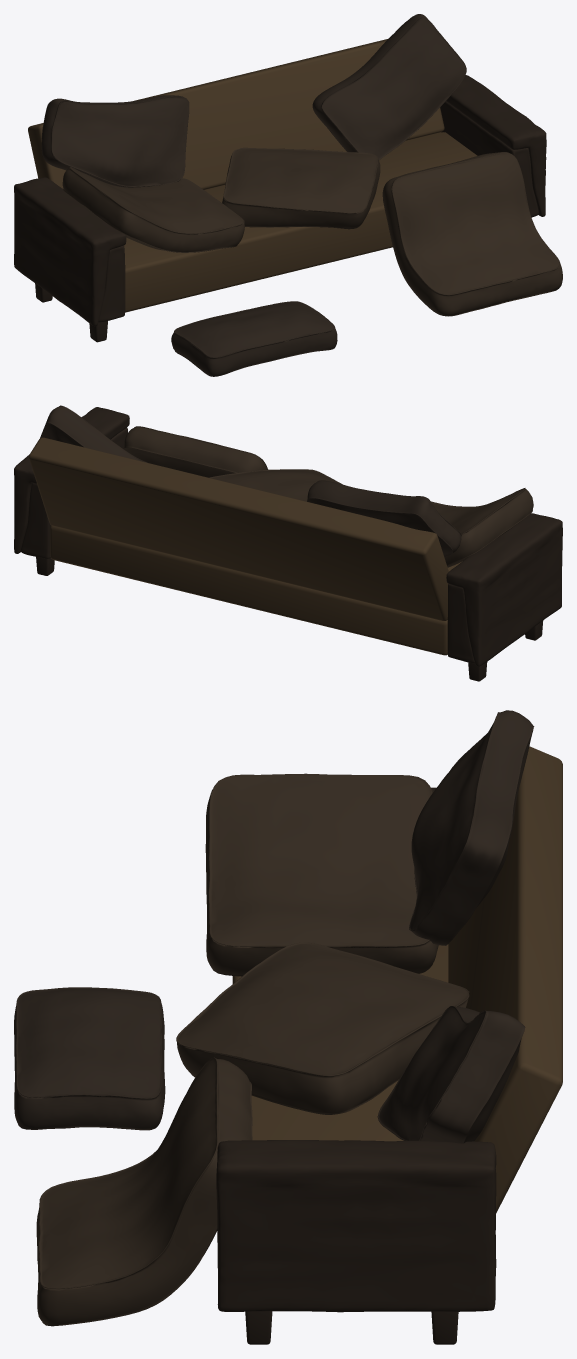
The model's file is COUCH.fbx.
The picture shows the model from 3 angles, top to bottom: view 1: azimuth 30°, elevation 25°; view 2: azimuth 150°, elevation 25°; view 3: azimuth 270°, elevation 25°; orthographic projection. The views are drawn at different scales.
Visible parts, largest first — view 1: couch_pillow_005, couch_back, couch_seat, couch_pillow, couch_handrestLeft, couch_pillow_002, couch_pillow_003, couch_pillow_001, couch_pillow_004, couch_handrestRight; view 2: couch_back, couch_seat, couch_handrestLeft, couch_pillow_002, couch_handrestRight, couch_pillow_005, couch_pillow_001, couch_pillow_003, couch_pillow; view 3: couch_handrestRight, couch_pillow_001, couch_pillow_003, couch_pillow_005, couch_back, couch_pillow_004, couch_pillow_002, couch_pillow, couch_seat.
Boxes of the visible parts, x1,y1,x2,y2 form: couch_pillow_005: (382, 152, 562, 316); couch_back: (28, 39, 444, 189); couch_seat: (124, 132, 477, 312); couch_pillow: (312, 14, 466, 159); couch_handrestLeft: (14, 177, 126, 342); couch_pillow_002: (41, 95, 189, 187); couch_pillow_003: (222, 147, 380, 229); couch_pillow_001: (62, 167, 244, 252); couch_pillow_004: (171, 301, 337, 376); couch_handrestRight: (440, 75, 546, 217); couch_back: (28, 437, 448, 620); couch_seat: (50, 525, 462, 655); couch_handrestLeft: (446, 513, 562, 681); couch_pillow_002: (307, 480, 461, 556); couch_handrestRight: (14, 407, 129, 575); couch_pillow_005: (124, 426, 268, 477); couch_pillow_001: (431, 488, 533, 567); couch_pillow_003: (209, 469, 342, 501); couch_pillow: (40, 405, 147, 462); couch_handrestRight: (216, 1140, 496, 1344); couch_pillow_001: (205, 773, 438, 976); couch_pillow_003: (176, 942, 469, 1114); couch_pillow_005: (36, 1057, 252, 1326); couch_back: (448, 746, 562, 1213); couch_pillow_004: (14, 987, 165, 1130); couch_pillow_002: (409, 710, 534, 945); couch_pillow: (377, 1006, 525, 1143); couch_seat: (232, 944, 448, 1141).
Size of the model in its own units: 527 by 199 by 321.
